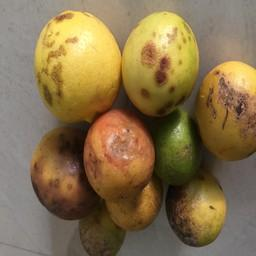Bad_lime: (21, 5, 254, 253)
